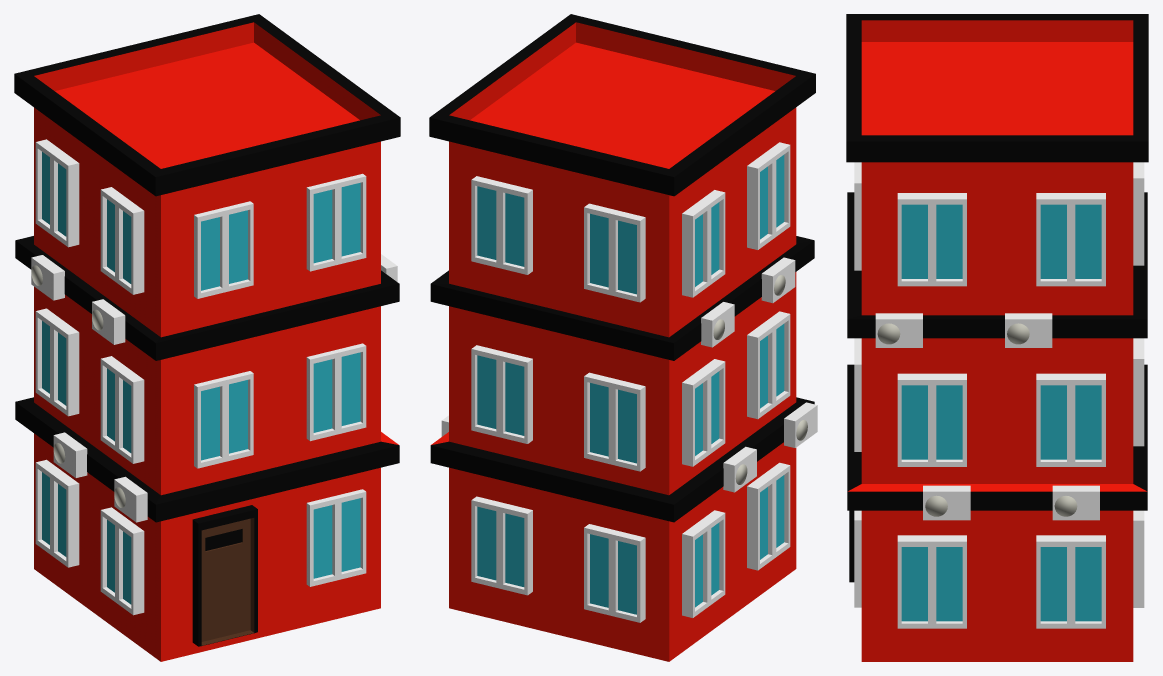
The model's file is Flat1.fbx.
The picture shows the model from 3 angles, left to right: view 1: azimuth 30°, elevation 25°; view 2: azimuth 150°, elevation 25°; view 3: azimuth 270°, elevation 25°; orthographic projection. The views are drawn at different scales.
Visible parts, largest first — view 1: flat1; view 2: flat1; view 3: flat1.
Part boxes in pixels (x1,y1,x2,y2): flat1: (14, 14, 400, 661); flat1: (429, 14, 817, 661); flat1: (846, 14, 1148, 661).
Bounding box in the file's own units: 25.7 × 45.14 × 23.47.
